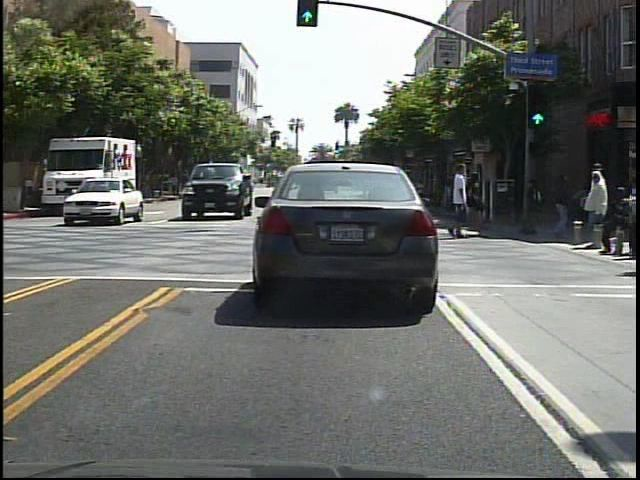person: (445, 160, 480, 243), (543, 170, 576, 241), (587, 167, 612, 256), (523, 174, 548, 236)
